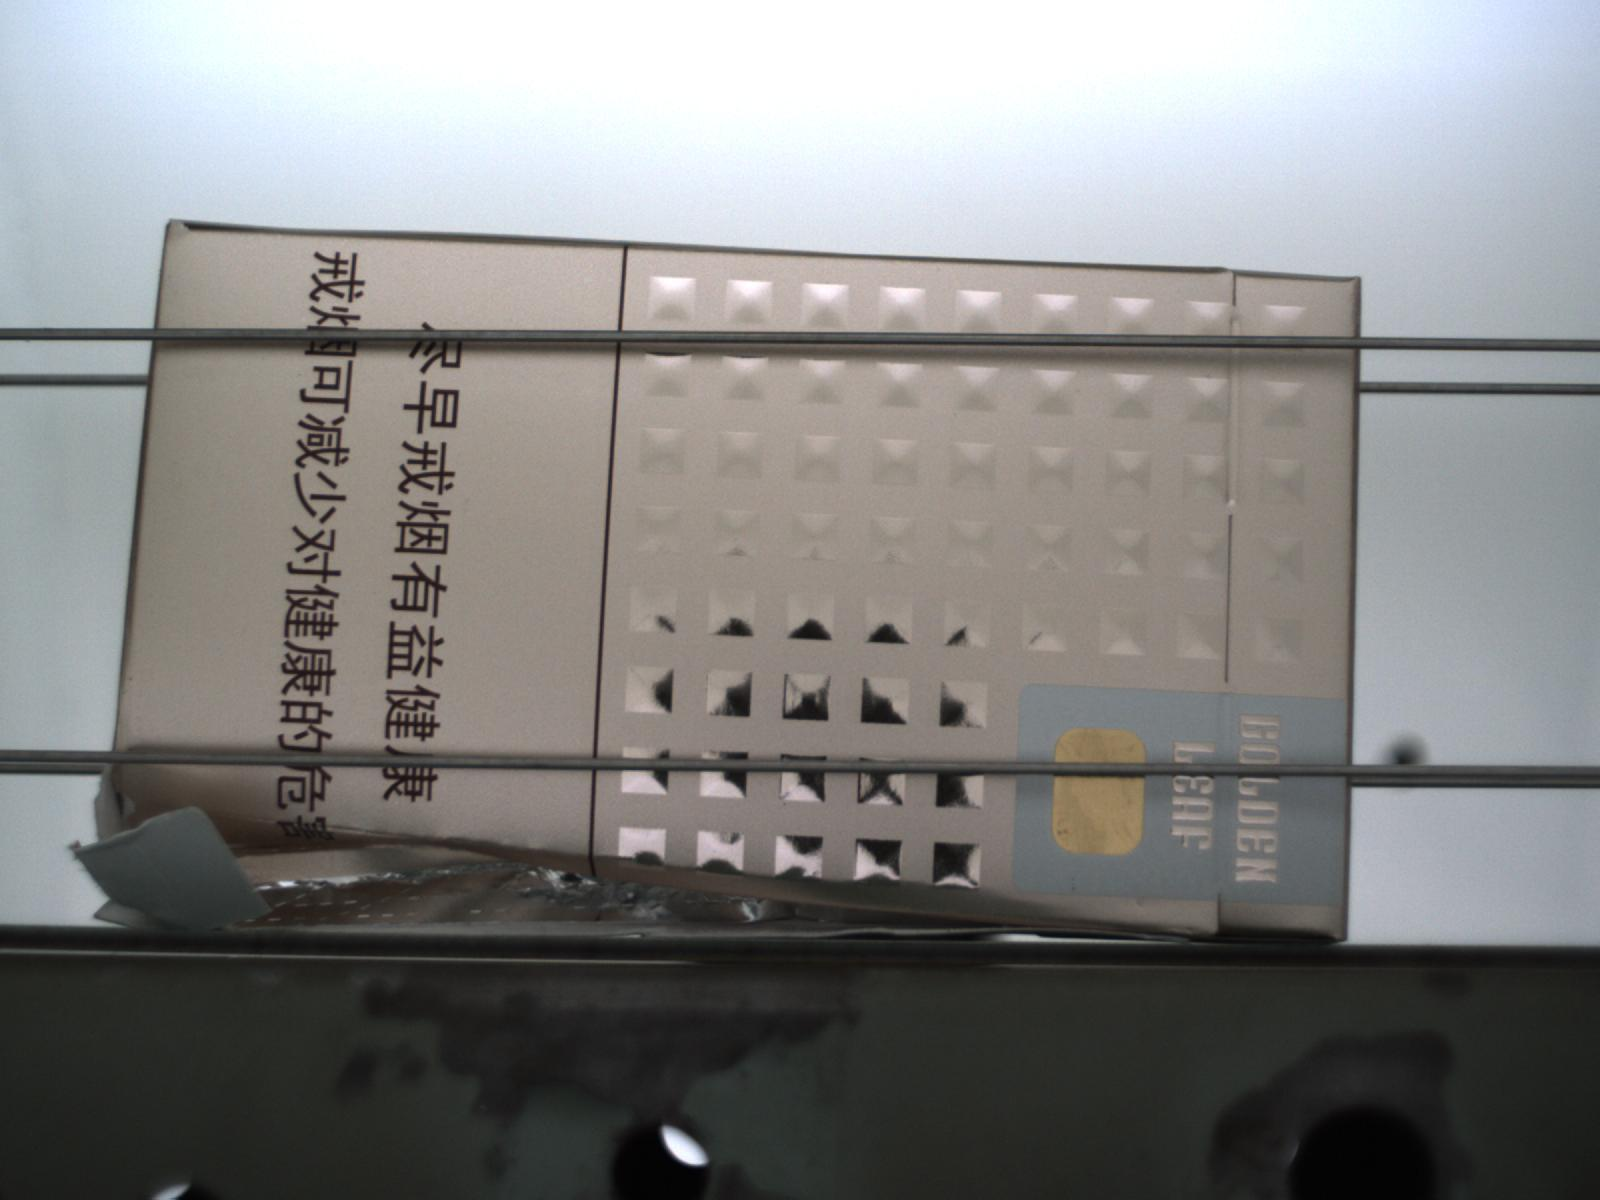dirtyScratch: (142, 802, 1169, 945)
skewed_upper_2: (68, 804, 270, 933)
